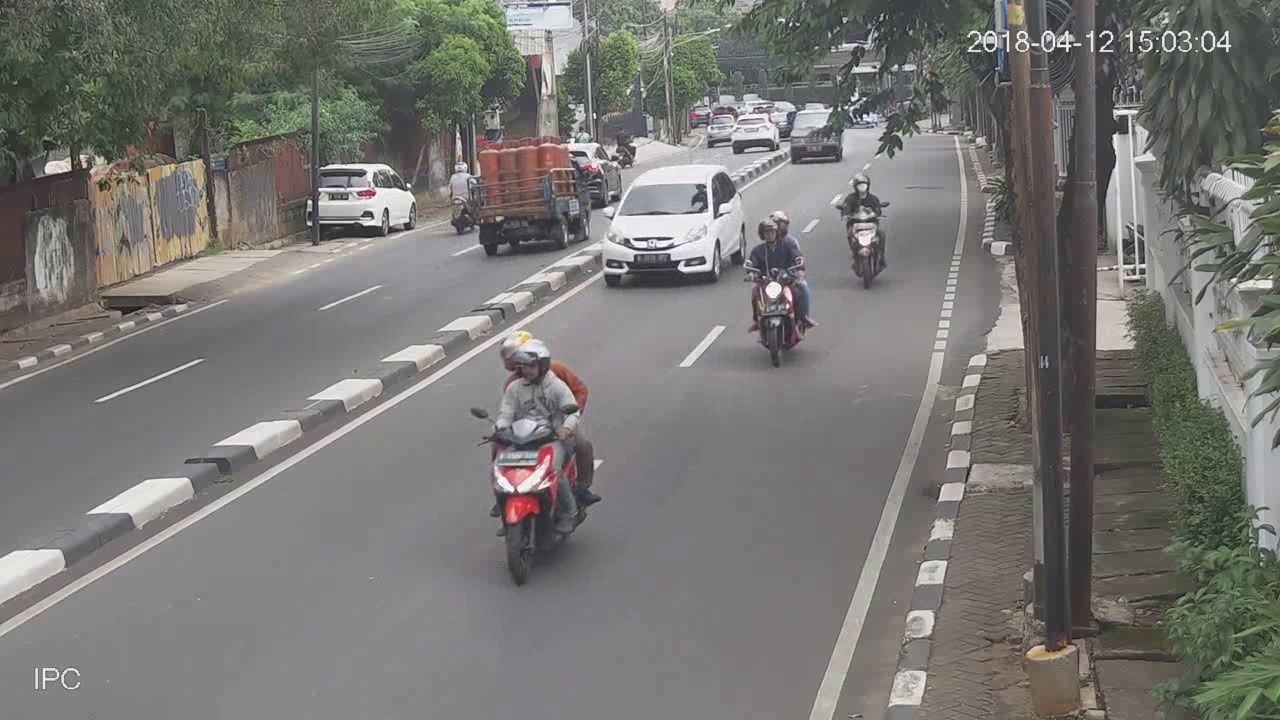car: (600, 164, 749, 284), (305, 154, 420, 238), (572, 137, 626, 205), (791, 108, 845, 168), (732, 109, 780, 153), (708, 115, 731, 149)
motorcycle: (474, 328, 604, 584), (746, 208, 822, 373), (835, 169, 893, 288), (447, 158, 472, 239)
truck: (473, 132, 591, 253)
